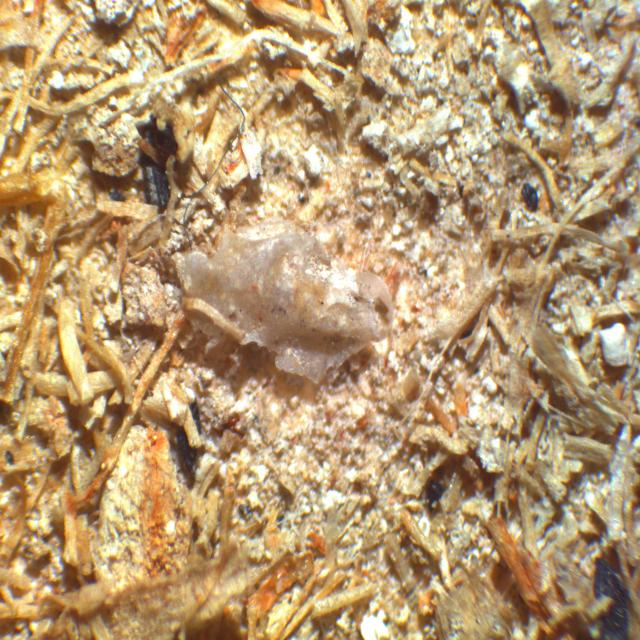microplastic: (172, 217, 395, 386)
